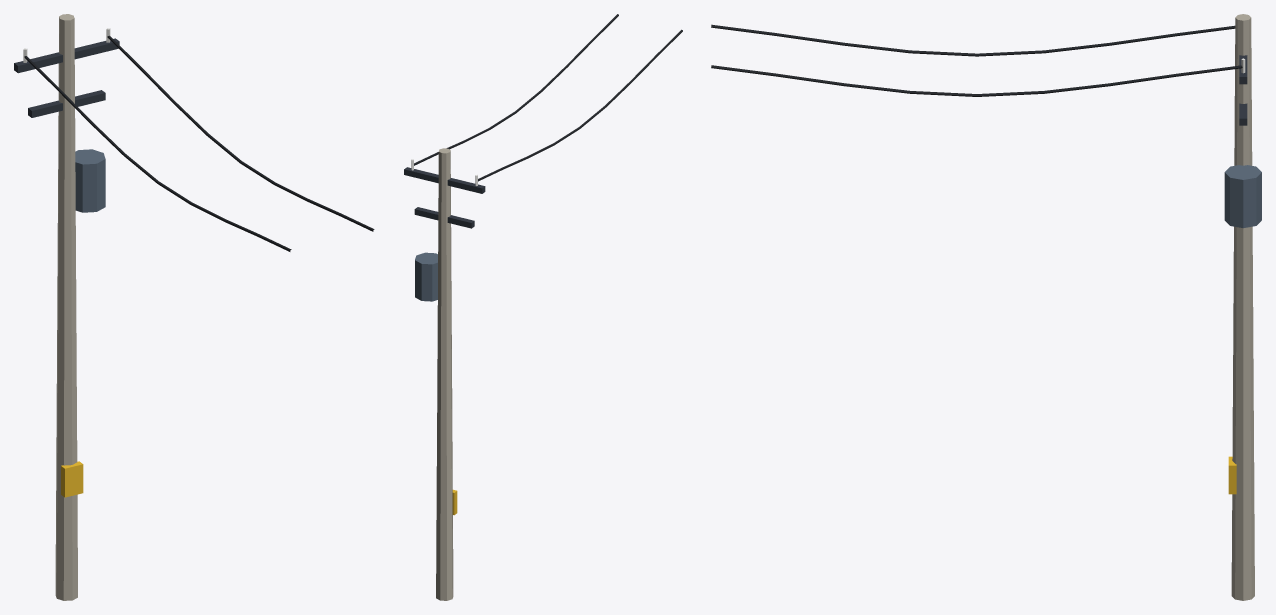
The model's file is city_utility_pole.glb.
The picture shows the model from 3 angles, left to right: view 1: azimuth 30°, elevation 25°; view 2: azimuth 150°, elevation 25°; view 3: azimuth 270°, elevation 25°; orthographic projection. The views are drawn at different scales.
Visible parts, largest first — view 1: city_utility_pole_concrete, city_utility_pole_cable, city_utility_pole_steel, city_utility_pole_steelDark, city_utility_pole_yellow; view 2: city_utility_pole_concrete, city_utility_pole_cable, city_utility_pole_steelDark, city_utility_pole_steel; view 3: city_utility_pole_concrete, city_utility_pole_cable, city_utility_pole_steel.
Boxes of the visible parts, <box> form: city_utility_pole_concrete: <box>55,14,77,600</box>; city_utility_pole_cable: <box>24,35,374,251</box>; city_utility_pole_steel: <box>75,149,105,212</box>; city_utility_pole_steelDark: <box>14,38,119,117</box>; city_utility_pole_yellow: <box>61,461,83,497</box>; city_utility_pole_concrete: <box>436,148,453,600</box>; city_utility_pole_cable: <box>414,14,682,181</box>; city_utility_pole_steelDark: <box>404,167,485,228</box>; city_utility_pole_steel: <box>415,252,437,301</box>; city_utility_pole_concrete: <box>1231,14,1254,600</box>; city_utility_pole_cable: <box>711,24,1242,96</box>; city_utility_pole_steel: <box>1224,165,1261,228</box>.
Size of the model in its own units: 2.2 by 12 by 10.35.
